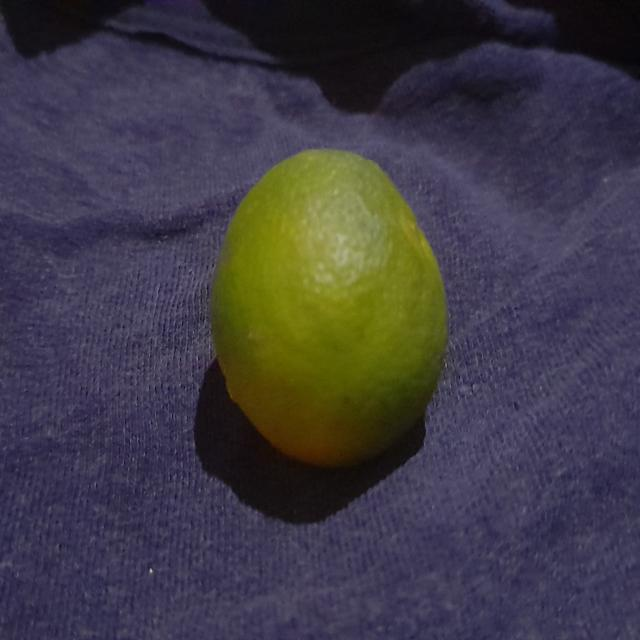heathy: (206, 143, 456, 471)
